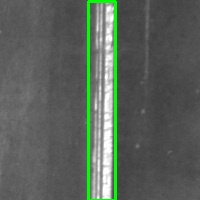scratches: (89, 1, 116, 200)
